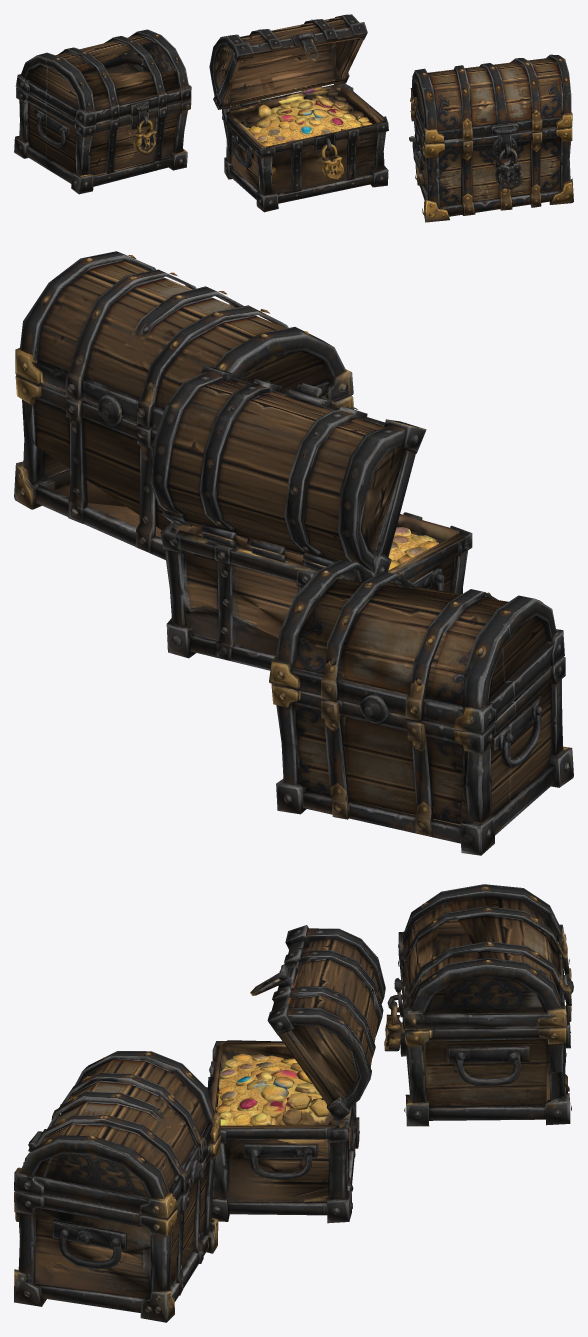
File: chests.glb
3 views of the same model, one above another, from view 1: azimuth 30°, elevation 25°; view 2: azimuth 150°, elevation 25°; view 3: azimuth 270°, elevation 25° (orthographic). The views are drawn at different scales.
Bounding box in the file's own units: 0.9531 × 0.3359 × 0.7949.
1 material, 1 textured.
